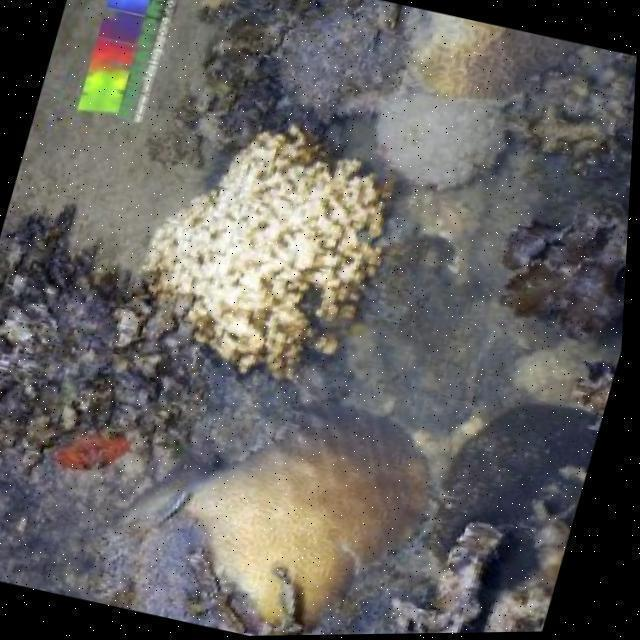Bleached Coral: (144, 125, 389, 378)
